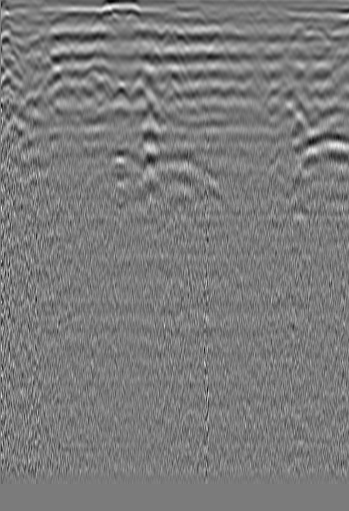가스: (100, 141, 140, 176)
상수: (21, 32, 54, 59)
오수: (310, 21, 332, 52)
우수: (156, 23, 181, 50)
